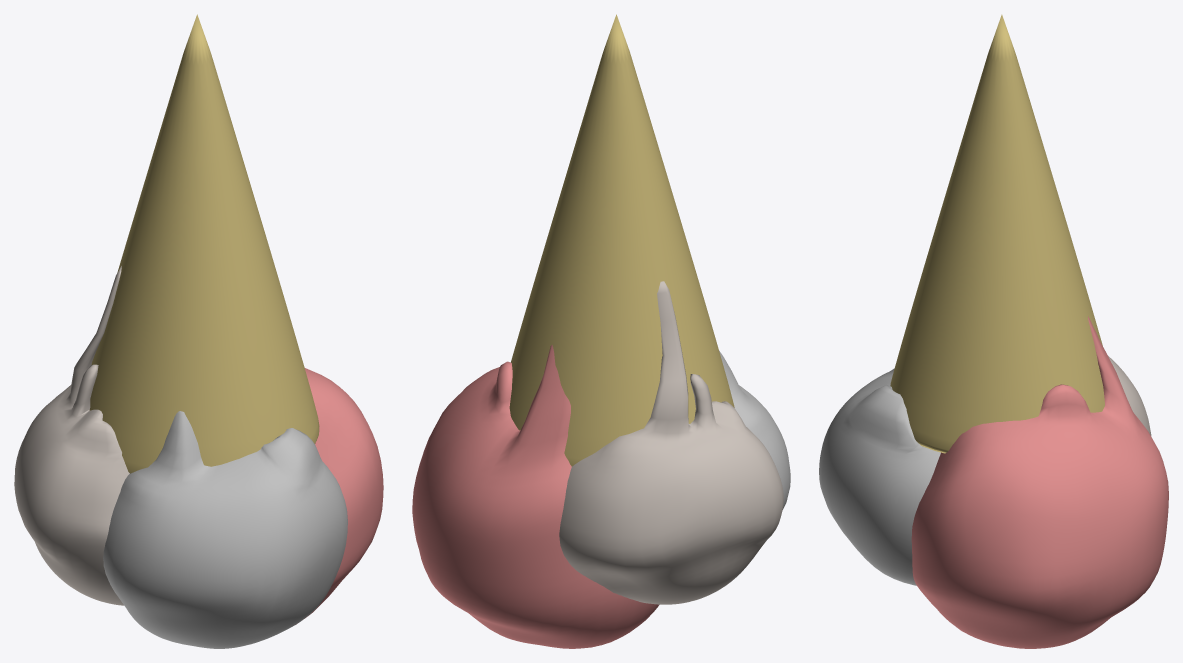
The model's file is Ice_cream.fbx.
The picture shows the model from 3 angles, left to right: view 1: azimuth 30°, elevation 25°; view 2: azimuth 150°, elevation 25°; view 3: azimuth 270°, elevation 25°; orthographic projection. The views are drawn at different scales.
Parts seen in each view (by area): view 1: pSphere20; view 2: pSphere20; view 3: pSphere20.
Part boxes in pixels (x1,y1,x2,y2): pSphere20: [14, 14, 383, 648]; pSphere20: [412, 14, 790, 648]; pSphere20: [819, 14, 1168, 648].
Bounding box in the file's own units: 18.29 × 31.71 × 16.73.
